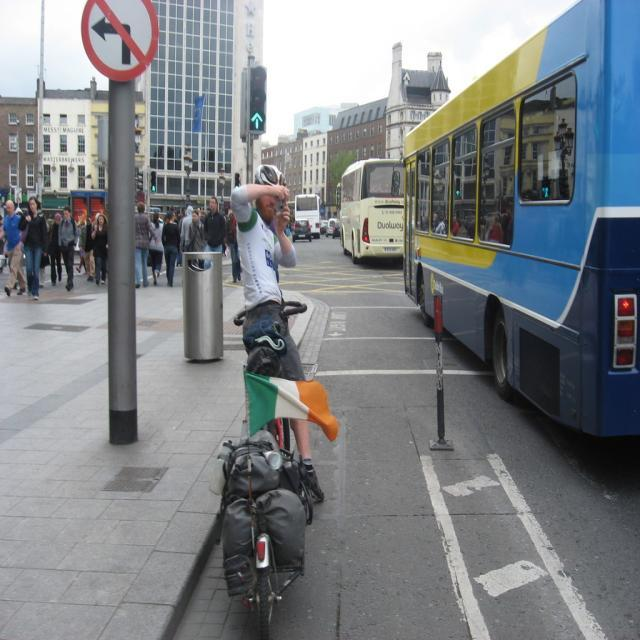traffic light: (249, 69, 267, 130)
